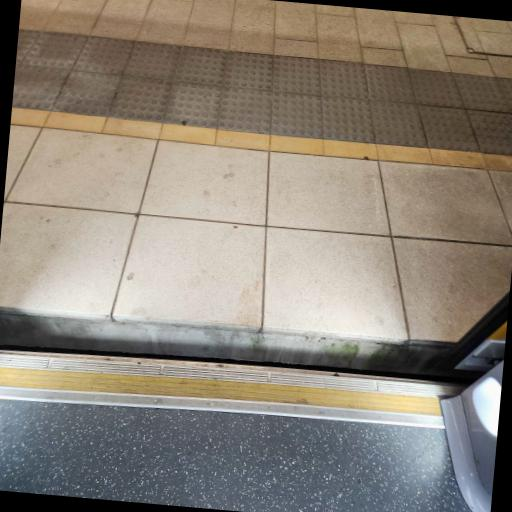gap: (0, 308, 505, 387)
